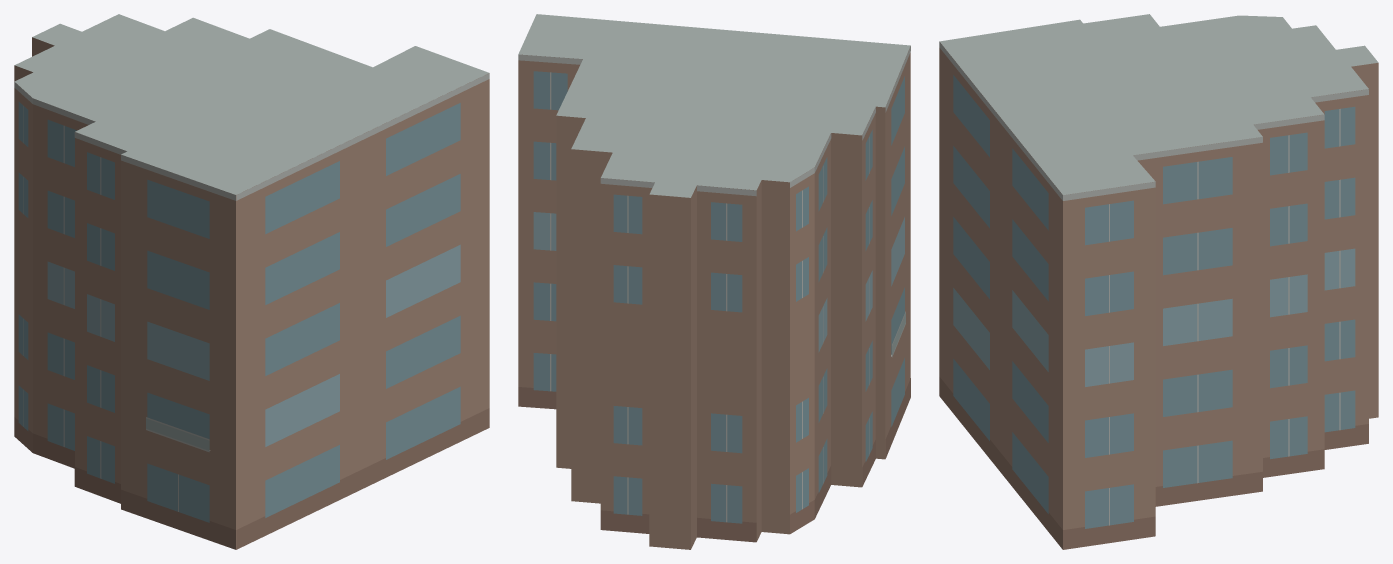
The model's file is survey-upis-32698179.glb.
3 views of the same model, side by side, from view 1: azimuth 30°, elevation 25°; view 2: azimuth 150°, elevation 25°; view 3: azimuth 270°, elevation 25° (orthographic).
Parts seen in each view (by area): view 1: survey-upis-32698179.tmp; view 2: survey-upis-32698179.tmp; view 3: survey-upis-32698179.tmp.
Part boxes in pixels (x1,y1,x2,y2): survey-upis-32698179.tmp: (14, 14, 489, 549); survey-upis-32698179.tmp: (518, 14, 910, 549); survey-upis-32698179.tmp: (939, 14, 1378, 549).
Size of the model in its own units: 16.01 by 14.6 by 16.39.
